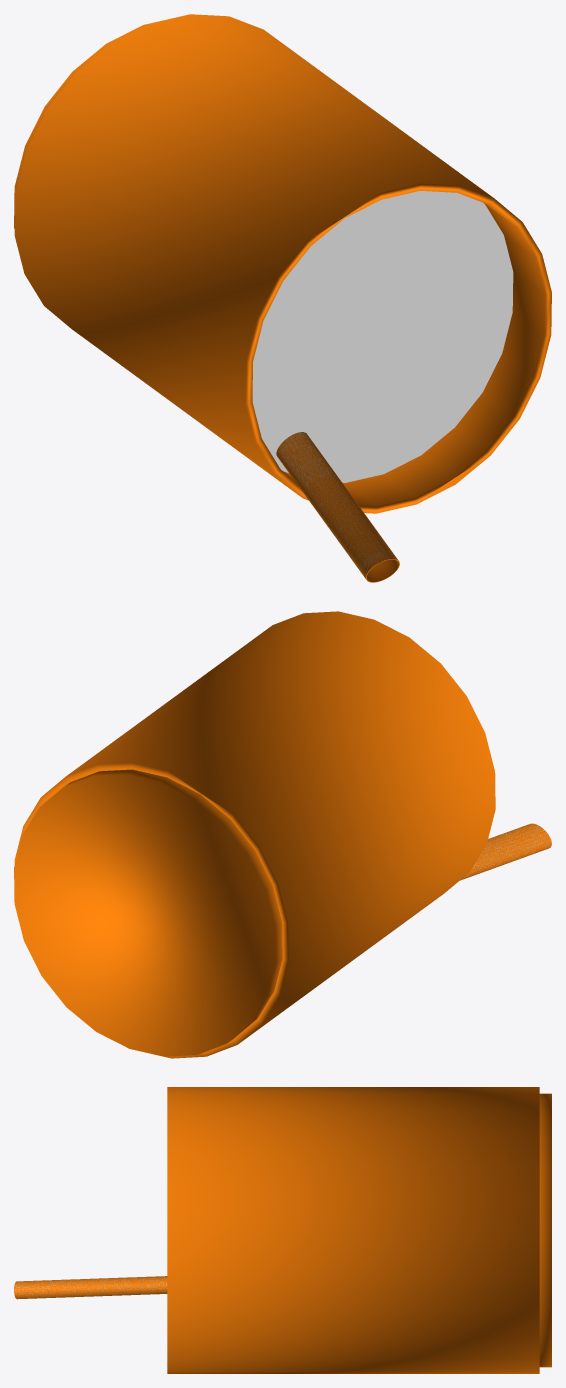
The model's file is model_align.obj.
The picture shows the model from 3 angles, top to bottom: view 1: azimuth 30°, elevation 25°; view 2: azimuth 150°, elevation 25°; view 3: azimuth 270°, elevation 25°; orthographic projection. The views are drawn at different scales.
Parts seen in each view (by area): view 1: mesh1_mesh1-geometry, mesh2_mesh2-geometry; view 2: mesh1_mesh1-geometry, mesh2_mesh2-geometry; view 3: mesh1_mesh1-geometry, mesh2_mesh2-geometry.
Part boxes in pixels (<box>): mesh1_mesh1-geometry: <box>14,14,551,513</box>; mesh2_mesh2-geometry: <box>276,432,399,582</box>; mesh1_mesh1-geometry: <box>14,611,495,1058</box>; mesh2_mesh2-geometry: <box>460,823,551,880</box>; mesh1_mesh1-geometry: <box>167,1087,551,1373</box>; mesh2_mesh2-geometry: <box>14,1276,167,1299</box>.
Size of the model in its own units: 0.0614 by 0.0614 by 0.1157.
